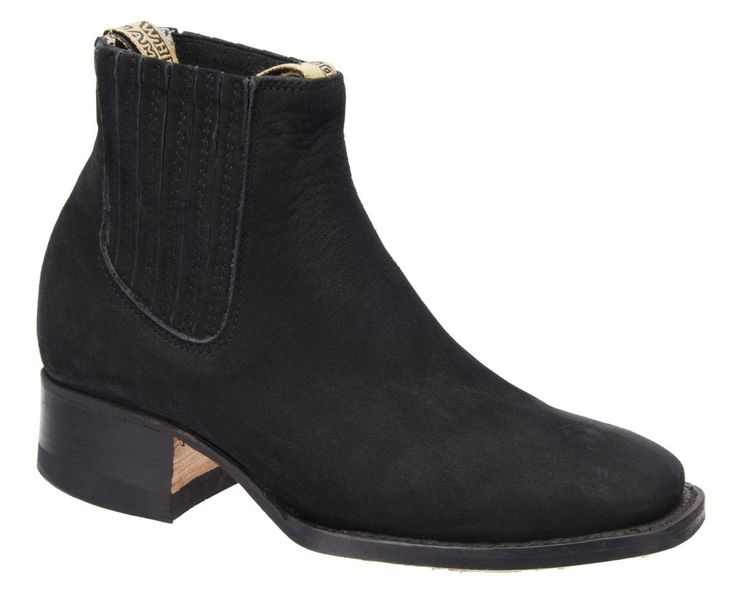gamuza: (37, 25, 686, 544)
